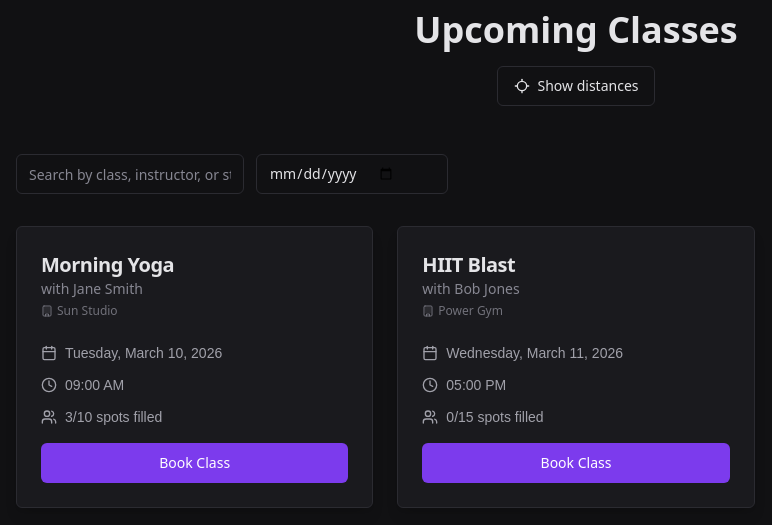
Scenario: ClassSchedule › filters classes by title search
Step 1. Type "yoga" into the field with placeholder "Search by class, instructor, or studio..." → (130, 174), box [16,154,244,194]
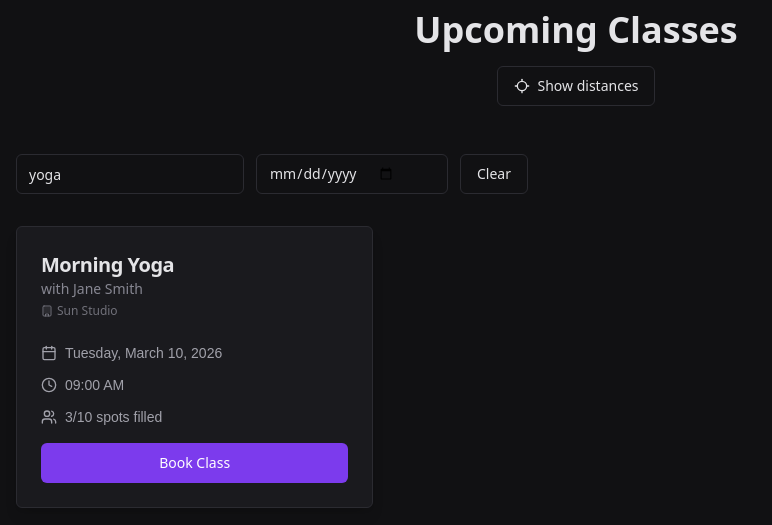
Expected: the heading "Morning Yoga" is shown, [41,251,174,279]
Now the heading "HIIT Blast" is gone
